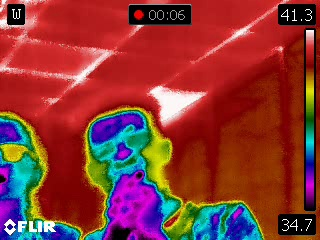human: (79, 95, 268, 240), (1, 109, 84, 240)
